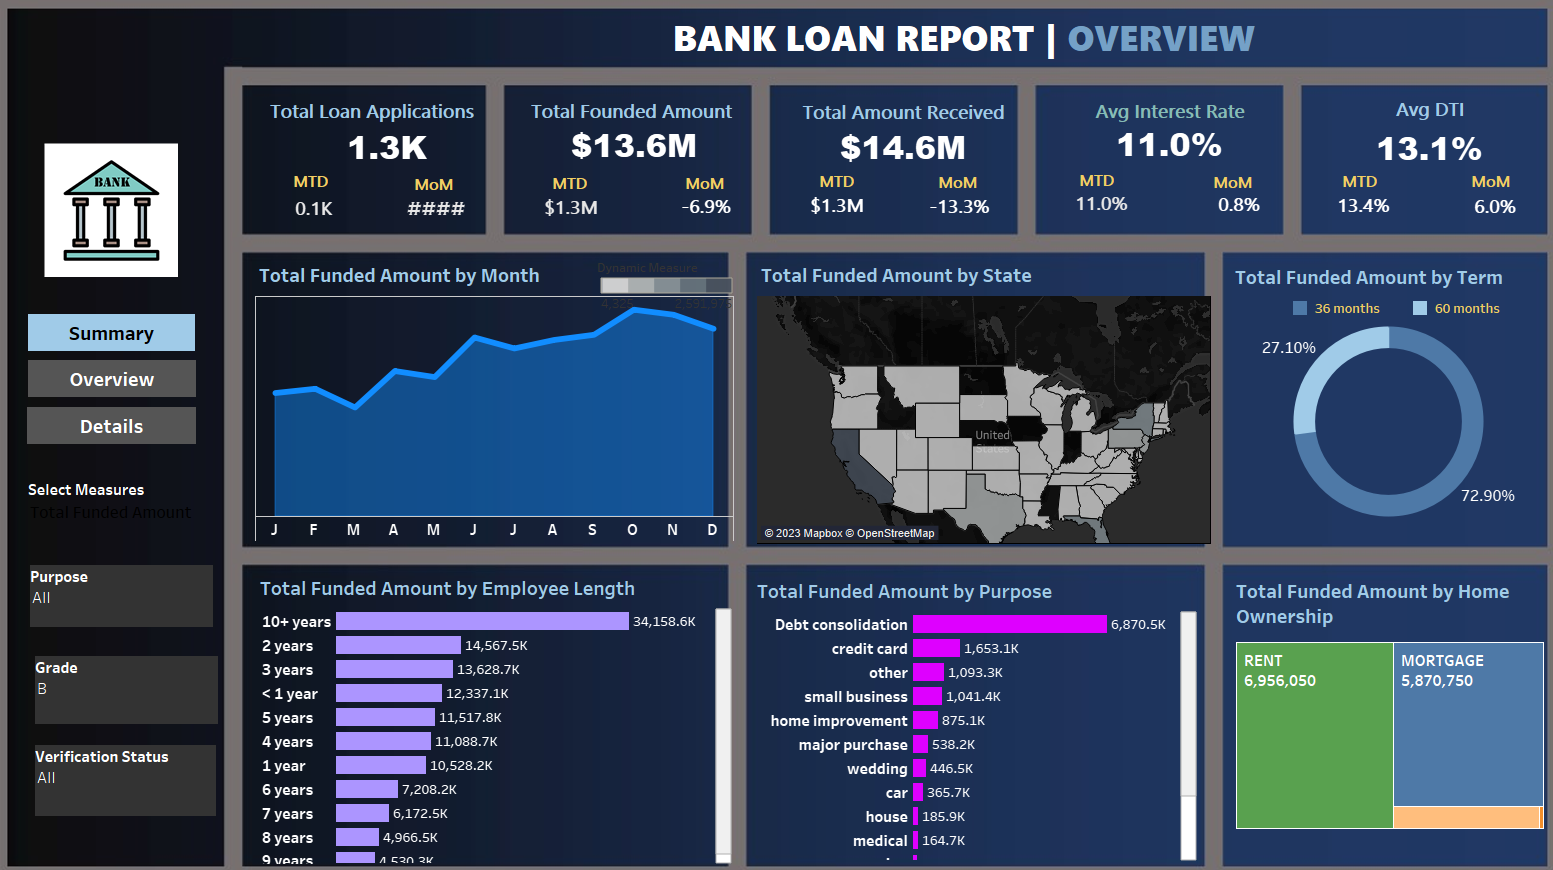

The page's visual inventory and layout, read from the dashboard file:
{"tool":"tableau","page":{"name":"OVERVIEW","canvas":[1600,900],"ordinal":1},"visuals":[{"type":"image","param":"D:/SummerSlam/GitHub Projects/Bank-Loan/Images/Tableau Background 2.jpg","box":[8,8,1584,884]},{"type":"text","box":[683,21,715,57]},{"type":"worksheet","title":"Avg DTI","mark":"Automatic","box":[1372,102,142,77]},{"type":"worksheet","title":"Total Loan Applications","mark":"Automatic","box":[279,104,242,71]},{"type":"worksheet","title":"Total Founded Amount","mark":"Automatic","box":[540,104,216,68]},{"type":"worksheet","title":"Avg Interest Rate","mark":"Automatic","box":[1036,104,294,66]},{"type":"worksheet","title":"Total Amount Received","mark":"Automatic","box":[785,105,263,70]},{"type":"image","param":"C:/Users/Mohammed/Desktop/bank-vector-icon.jpg","box":[57,156,134,145]},{"type":"worksheet","title":"MoM Avg DTI","mark":"Automatic","box":[1453,176,111,85]},{"type":"text","box":[1079,180,61,25]},{"type":"text","box":[293,181,61,25]},{"type":"text","box":[819,181,61,25]},{"type":"worksheet","title":"MoM Avg INT Rate","mark":"Automatic","box":[1202,181,100,71]},{"type":"text","box":[1342,181,61,25]},{"type":"text","box":[1473,181,61,25]},{"type":"text","box":[940,182,61,25]},{"type":"text","box":[1215,182,61,25]},{"type":"text","box":[552,183,61,25]},{"type":"text","box":[687,183,61,25]},{"type":"text","box":[416,184,61,25]},{"type":"worksheet","title":"MoM Total Amount Received ","mark":"Automatic","box":[932,186,81,65]},{"type":"worksheet","title":"MTD Avg DTI","mark":"Automatic","box":[1315,186,123,63]},{"type":"worksheet","title":"MoM Total Loan Applications","mark":"Automatic","box":[413,187,73,72]},{"type":"worksheet","title":"MTD Total Loan Applications","mark":"Automatic","box":[273,189,108,64]},{"type":"worksheet","title":"MoM Total Funded Amount","mark":"Automatic","box":[666,189,107,60]},{"type":"worksheet","title":"MTD Total Amount Received","mark":"Automatic","box":[808,190,84,56]},{"type":"worksheet","title":"MTD Total Funded Amount","mark":"Automatic","box":[538,192,93,56]},{"type":"worksheet","title":"MTD Avg INT Rate","mark":"Automatic","box":[1069,198,92,35]},{"type":"worksheet","title":"Month","mark":"Area","rows":["Calculation_615022856774193155","Calculation_615022856774193155"],"cols":["issue_date"],"box":[268,268,479,287]},{"type":"legend","title":"State","param":"[federated.03rtkqy1etti0218mw5ic1l0aoeu].[usr:Calculation_615022856774193155:qk]","box":[610,268,140,76]},{"type":"worksheet","title":"State","mark":"Multipolygon","box":[770,268,453,288]},{"type":"worksheet","title":"Term","mark":"Pie","rows":["Calculation_615022856783056901","Calculation_615022856783093767"],"box":[1244,270,315,288]},{"type":"legend","title":"Term","param":"[federated.03rtkqy1etti0218mw5ic1l0aoeu].[none:term:nk]","box":[1303,311,258,35]},{"type":"dashboard-object","box":[41,327,167,37]},{"type":"dashboard-object","box":[41,373,168,37]},{"type":"dashboard-object","box":[40,420,169,37]},{"type":"parameter","param":"[Parameters].[Parameter 1]","box":[41,491,178,69]},{"type":"filter","title":"Avg DTI","param":"[federated.03rtkqy1etti0218mw5ic1l0aoeu].[none:purpose:nk]","box":[43,578,183,62]},{"type":"worksheet","title":"Emp Length","mark":"Automatic","rows":["emp_length"],"cols":["Calculation_615022856774193155"],"box":[269,581,476,295]},{"type":"worksheet","title":"Pupose","mark":"Automatic","rows":["purpose"],"cols":["Calculation_615022856774193155"],"box":[766,584,444,289]},{"type":"worksheet","title":"Home Own","mark":"Automatic","box":[1245,584,315,274]},{"type":"filter","title":"Avg DTI","param":"[federated.03rtkqy1etti0218mw5ic1l0aoeu].[none:grade:nk]","box":[48,669,183,68]},{"type":"filter","title":"Avg DTI","param":"[federated.03rtkqy1etti0218mw5ic1l0aoeu].[none:verification_status:nk]","box":[48,758,181,71]}]}

Visuals, with their boxes in screenshot pixels (x1, y1, x2, y2), scaled from the page's 1600x900 canvas onto the 1553x870 screenshot:
image: box(8, 8, 1545, 862)
text: box(663, 20, 1357, 75)
"Avg DTI" worksheet: box(1332, 99, 1470, 173)
"Total Loan Applications" worksheet: box(271, 101, 506, 169)
"Total Founded Amount" worksheet: box(524, 101, 734, 166)
"Avg Interest Rate" worksheet: box(1006, 101, 1291, 164)
"Total Amount Received" worksheet: box(762, 102, 1017, 169)
image: box(55, 151, 185, 291)
"MoM Avg DTI" worksheet: box(1410, 170, 1518, 252)
text: box(1047, 174, 1107, 198)
text: box(284, 175, 344, 199)
text: box(795, 175, 854, 199)
"MoM Avg INT Rate" worksheet: box(1167, 175, 1264, 244)
text: box(1303, 175, 1362, 199)
text: box(1430, 175, 1489, 199)
text: box(912, 176, 972, 200)
text: box(1179, 176, 1239, 200)
text: box(536, 177, 595, 201)
text: box(667, 177, 726, 201)
text: box(404, 178, 463, 202)
"MoM Total Amount Received " worksheet: box(905, 180, 983, 243)
"MTD Avg DTI" worksheet: box(1276, 180, 1396, 241)
"MoM Total Loan Applications" worksheet: box(401, 181, 472, 250)
"MTD Total Loan Applications" worksheet: box(265, 183, 370, 245)
"MoM Total Funded Amount" worksheet: box(646, 183, 750, 241)
"MTD Total Amount Received" worksheet: box(784, 184, 866, 238)
"MTD Total Funded Amount" worksheet: box(522, 186, 612, 240)
"MTD Avg INT Rate" worksheet: box(1038, 191, 1127, 225)
"Month" worksheet (Area marks): box(260, 259, 725, 536)
"State" legend: box(592, 259, 728, 333)
"State" worksheet (Multipolygon marks): box(747, 259, 1187, 537)
"Term" worksheet (Pie marks): box(1207, 261, 1513, 539)
"Term" legend: box(1265, 301, 1515, 334)
dashboard-object: box(40, 316, 202, 352)
dashboard-object: box(40, 361, 203, 396)
dashboard-object: box(39, 406, 203, 442)
parameter: box(40, 475, 213, 541)
"Avg DTI" filter: box(42, 559, 219, 619)
"Emp Length" worksheet: box(261, 562, 723, 847)
"Pupose" worksheet: box(743, 565, 1174, 844)
"Home Own" worksheet: box(1208, 565, 1514, 829)
"Avg DTI" filter: box(47, 647, 224, 712)
"Avg DTI" filter: box(47, 733, 222, 801)
